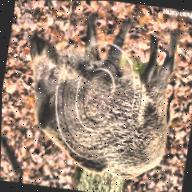boar: (12, 7, 192, 183)
